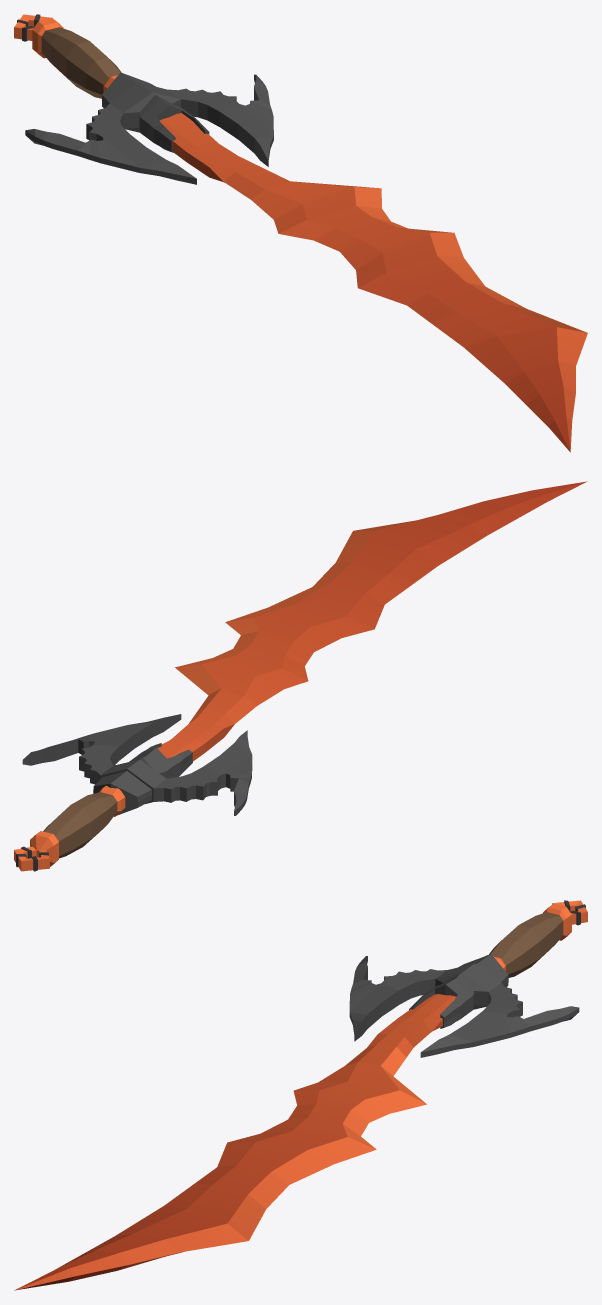
File: 79_knife_4.fbx
3 views of the same model, one above another, from view 1: azimuth 30°, elevation 25°; view 2: azimuth 150°, elevation 25°; view 3: azimuth 330°, elevation 25° (orthographic). The views are drawn at different scales.
Visible parts, largest first — view 1: 79_knife_4; view 2: 79_knife_4; view 3: 79_knife_4.
Part boxes in pixels (x1,y1,x2,y2): 79_knife_4: (14,14,587,452); 79_knife_4: (14,481,587,871); 79_knife_4: (14,900,587,1290).
Size of the model in its own units: 103 by 18.52 by 452.
